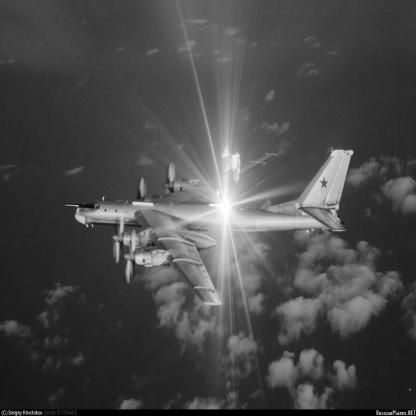Tu95: (63, 147, 358, 307)
